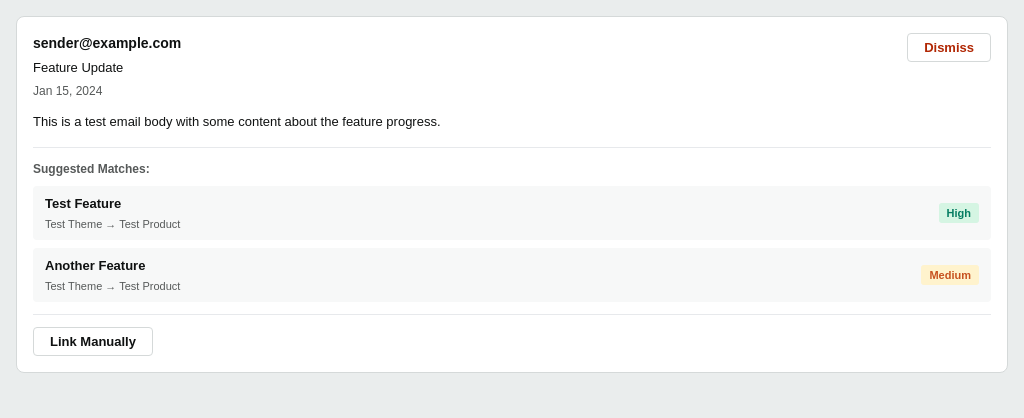
Test: ReviewQueue › Manual Linking › should show feature selector when manual link clicked
Click the button "Link Manually": (93, 342) [33,327,153,356]
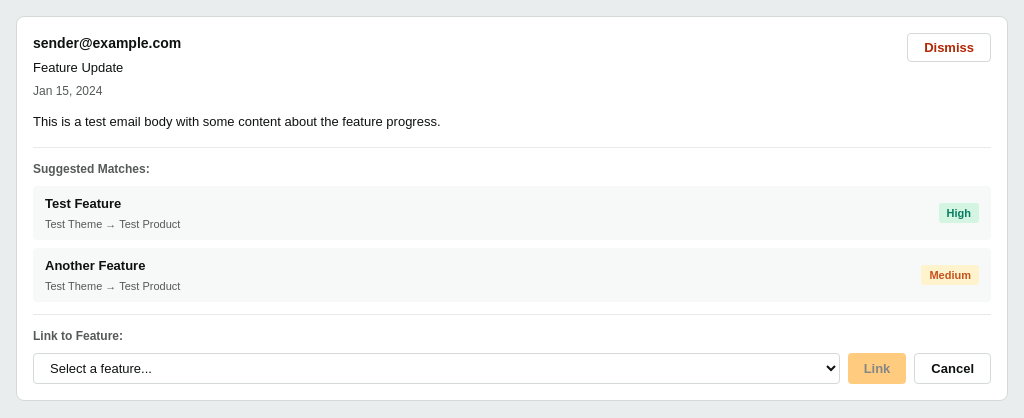
Now the text "Link to Feature:" is shown, box [33,329,123,343]
